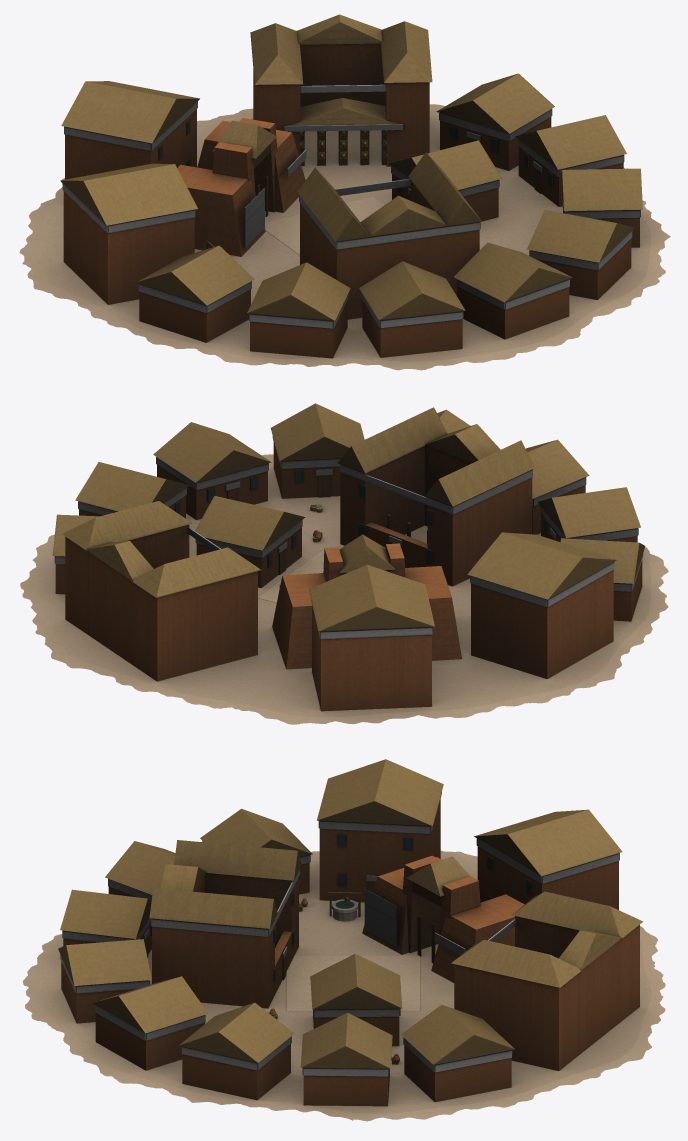
Rendered from classical-town-medium-b-westafrica.glb.
3 views of the same model, one above another, from view 1: azimuth 30°, elevation 25°; view 2: azimuth 150°, elevation 25°; view 3: azimuth 270°, elevation 25° (orthographic).
Parts seen in each view (by area): view 1: LOD0; view 2: LOD0; view 3: LOD0.
Boxes of the visible parts, x1,y1,x2,y2 form: LOD0: (19, 14, 670, 370); LOD0: (20, 403, 668, 724); LOD0: (23, 759, 665, 1121).
Size of what is drawn, in the model's own units: 6.03 by 1.07 by 5.94.
Materials: 3 (3 with a texture image).
